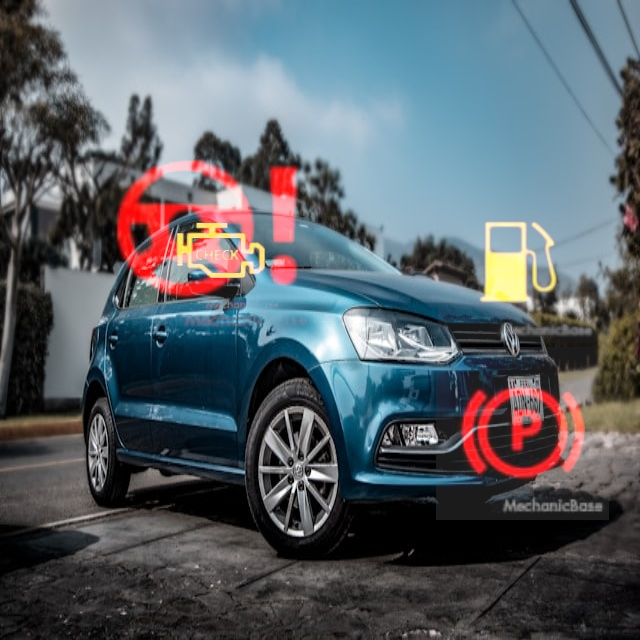symbol: (100, 121, 316, 337), (436, 347, 609, 520), (438, 183, 598, 343), (156, 187, 284, 315)
